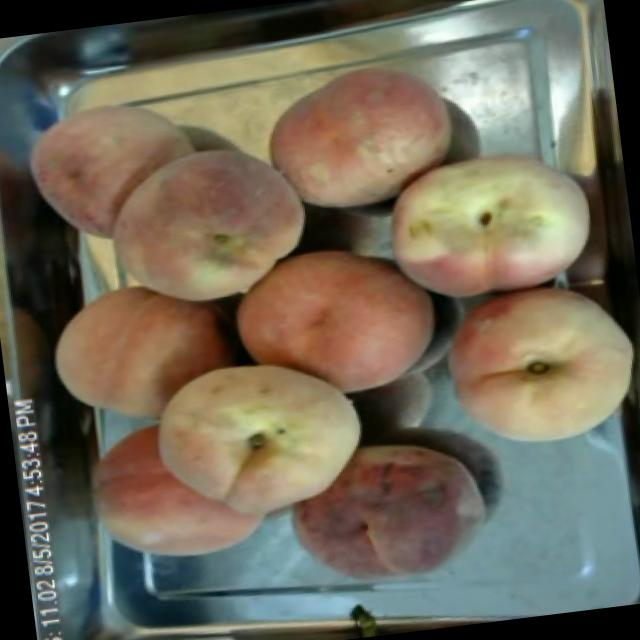Fruit: (266, 408, 511, 616), (137, 332, 383, 536), (215, 224, 458, 424), (91, 122, 324, 330), (368, 127, 607, 307), (420, 274, 640, 469), (252, 44, 469, 228), (9, 66, 221, 252), (36, 261, 238, 437), (72, 398, 269, 578)
